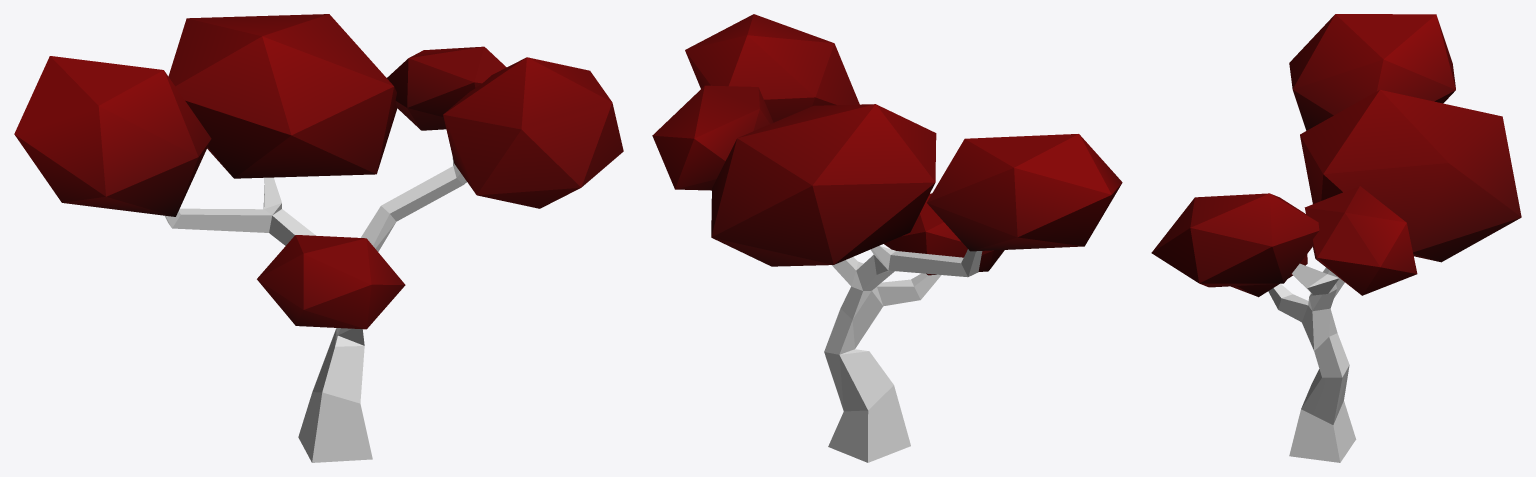
The model's file is BallTree02.fbx.
3 renders of one model, left to right at view 1: azimuth 30°, elevation 25°; view 2: azimuth 150°, elevation 25°; view 3: azimuth 270°, elevation 25°, orthographic. The views are drawn at different scales.
Visible parts, largest first — view 1: BallTree02_Leafs.003, BallTree02_Leafs.005, BallTree02_Leafs.001, BallTree02_Trunk, BallTree02_Leafs.004, BallTree02_Leafs.002; view 2: BallTree02_Leafs.003, BallTree02_Leafs.005, BallTree02_Trunk, BallTree02_Leafs.001, BallTree02_Leafs.002, BallTree02_Leafs.004; view 3: BallTree02_Leafs.003, BallTree02_Leafs.005, BallTree02_Leafs.001, BallTree02_Trunk, BallTree02_Leafs.002, BallTree02_Leafs.004.
Boxes of the visible parts, x1,y1,x2,y2 form: BallTree02_Leafs.003: (168, 14, 397, 178); BallTree02_Leafs.005: (14, 56, 211, 216); BallTree02_Leafs.001: (443, 57, 623, 208); BallTree02_Trunk: (165, 157, 466, 462); BallTree02_Leafs.004: (257, 235, 405, 329); BallTree02_Leafs.002: (387, 46, 506, 130); BallTree02_Leafs.003: (711, 104, 936, 266); BallTree02_Leafs.005: (927, 134, 1122, 251); BallTree02_Trunk: (824, 246, 982, 462); BallTree02_Leafs.001: (685, 14, 859, 122); BallTree02_Leafs.002: (652, 85, 773, 190); BallTree02_Leafs.004: (884, 193, 1004, 275); BallTree02_Leafs.003: (1300, 90, 1521, 262); BallTree02_Leafs.005: (1289, 14, 1455, 130); BallTree02_Leafs.001: (1151, 193, 1319, 287); BallTree02_Trunk: (1268, 263, 1356, 462); BallTree02_Leafs.002: (1304, 186, 1417, 295); BallTree02_Leafs.004: (1231, 254, 1307, 297).
Bounding box in the file's own units: 2.39 × 1.77 × 1.73.
